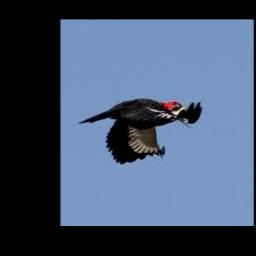Woodpecker: (78, 98, 202, 165)
